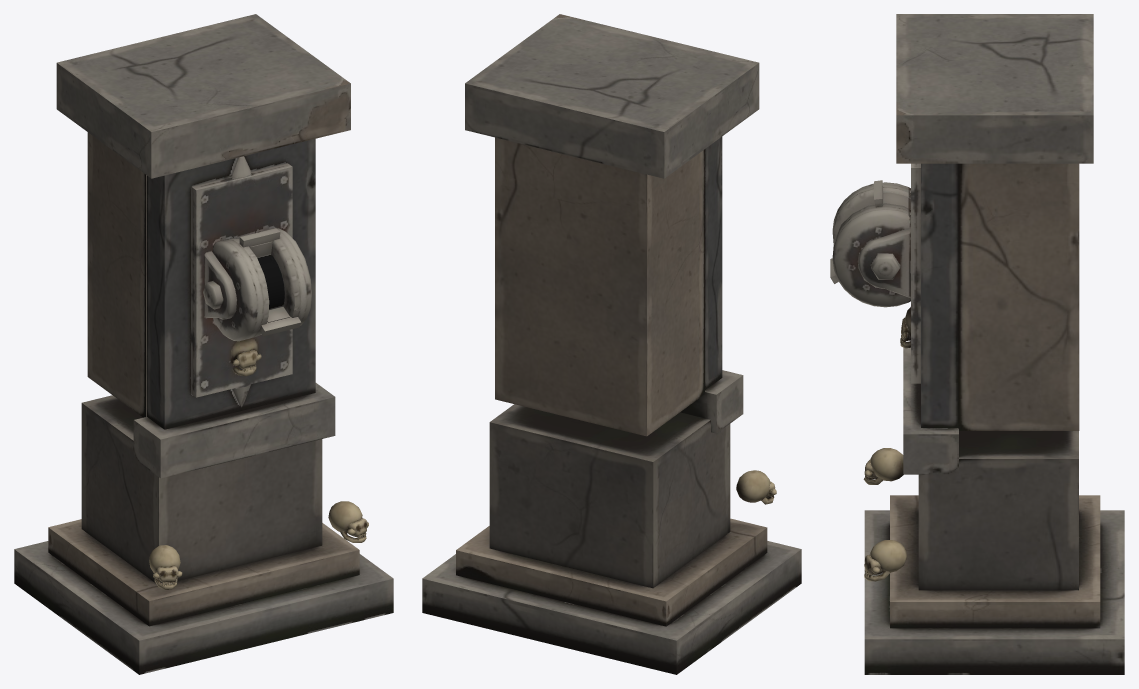
Rendered from lever_floor.glb.
3 views of the same model, side by side, from view 1: azimuth 30°, elevation 25°; view 2: azimuth 150°, elevation 25°; view 3: azimuth 270°, elevation 25° (orthographic). The views are drawn at different scales.
Visible parts, largest first — view 1: lever_floor; view 2: lever_floor; view 3: lever_floor.
Boxes of the visible parts, <box> form: lever_floor: <box>14,14,393,674</box>; lever_floor: <box>422,14,801,674</box>; lever_floor: <box>830,14,1124,674</box>.
Size of the model in its own units: 0.836 by 1.65 by 0.806.
1 material, 1 textured.
